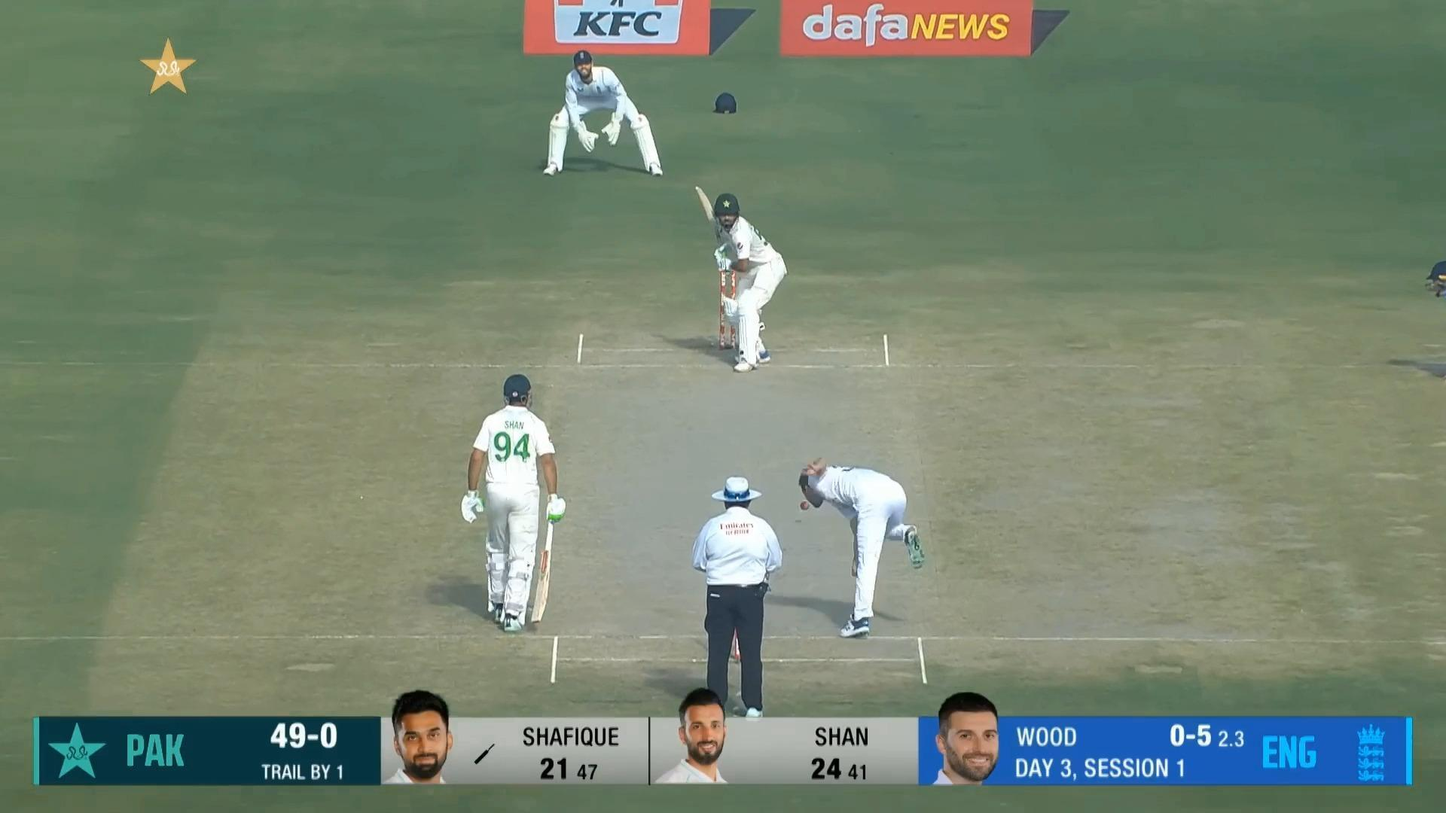BM 1: (694, 184, 789, 374)
BO: (796, 457, 927, 638)
